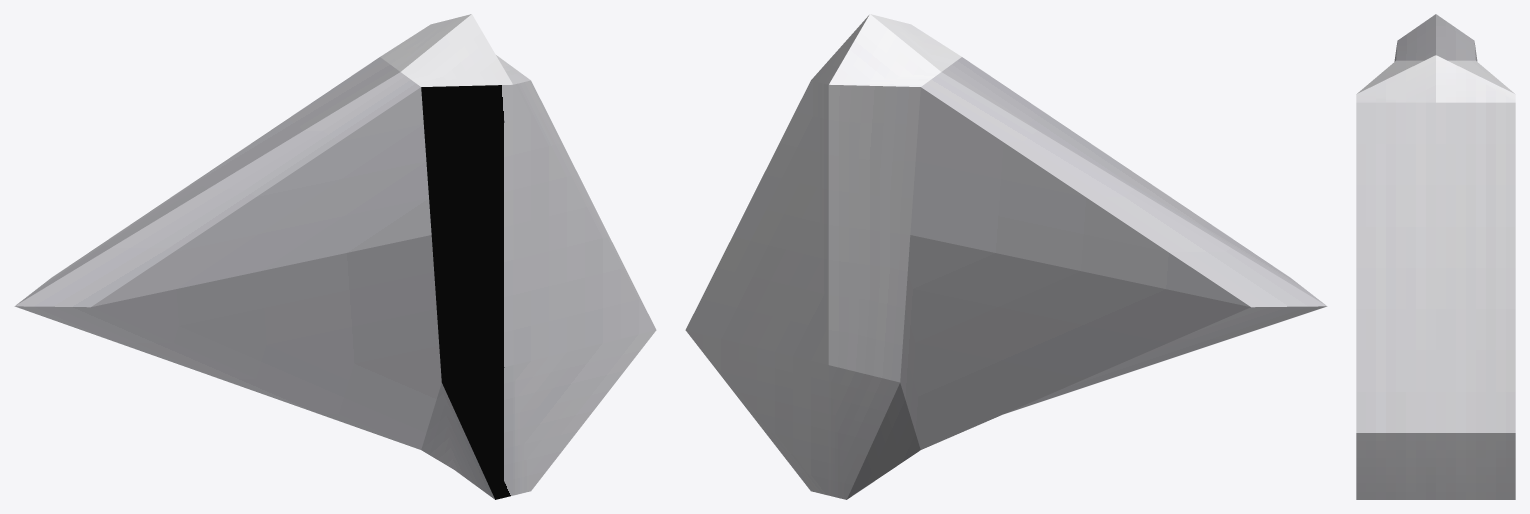
File: raygun.glb
The picture shows the model from 3 angles, left to right: view 1: azimuth 30°, elevation 25°; view 2: azimuth 150°, elevation 25°; view 3: azimuth 270°, elevation 25°; orthographic projection. The views are drawn at different scales.
Visible parts, largest first — view 1: Cube; view 2: Cube; view 3: Cube.
Boxes of the visible parts, box(x1,y1,x2,y2) form: Cube: box(14, 14, 656, 499); Cube: box(685, 14, 1327, 499); Cube: box(1356, 14, 1515, 499).
Size of the model in its own units: 1.68 by 1.21 by 0.4.
Materials: 1 (1 with a texture image).
